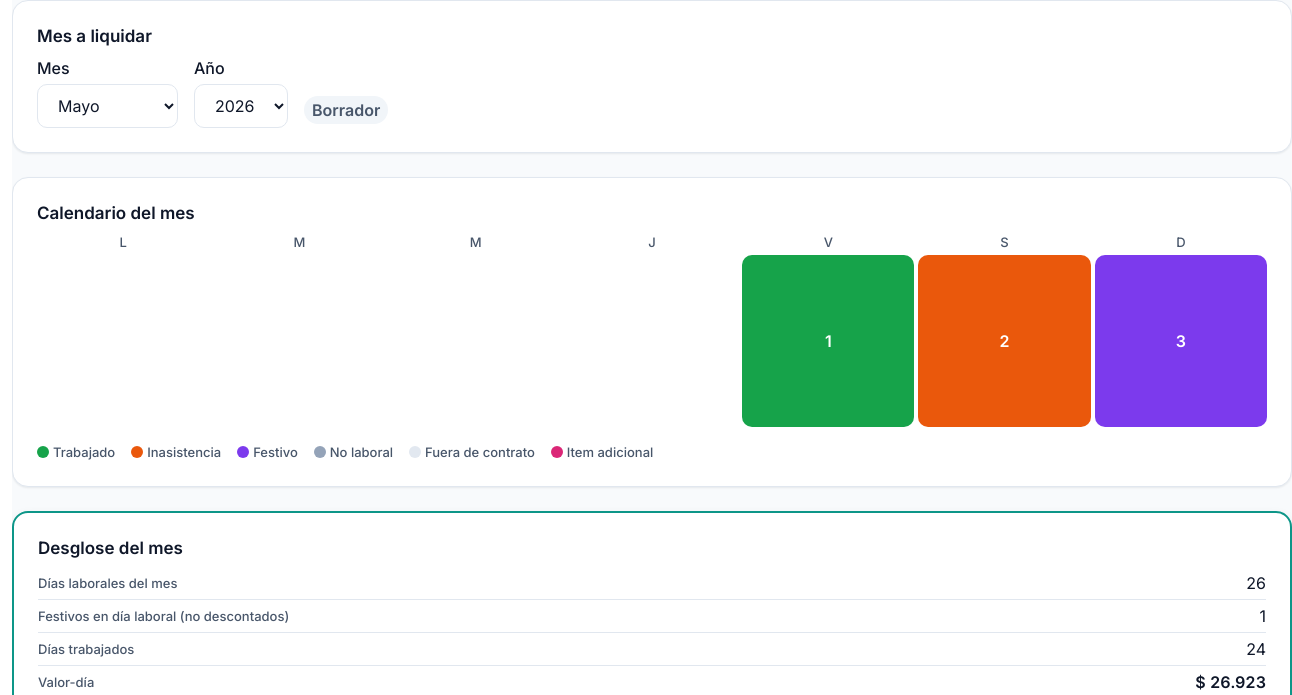
Test: LiquidarMesSection — novedades (Spec novedades) › AC-1: tras actualizar, el total mostrado se refresca con la respuesta
Click the cell named "1 de mayo". click: {"x": 828, "y": 341}
box: [742,255,914,427]
(page scrolled)
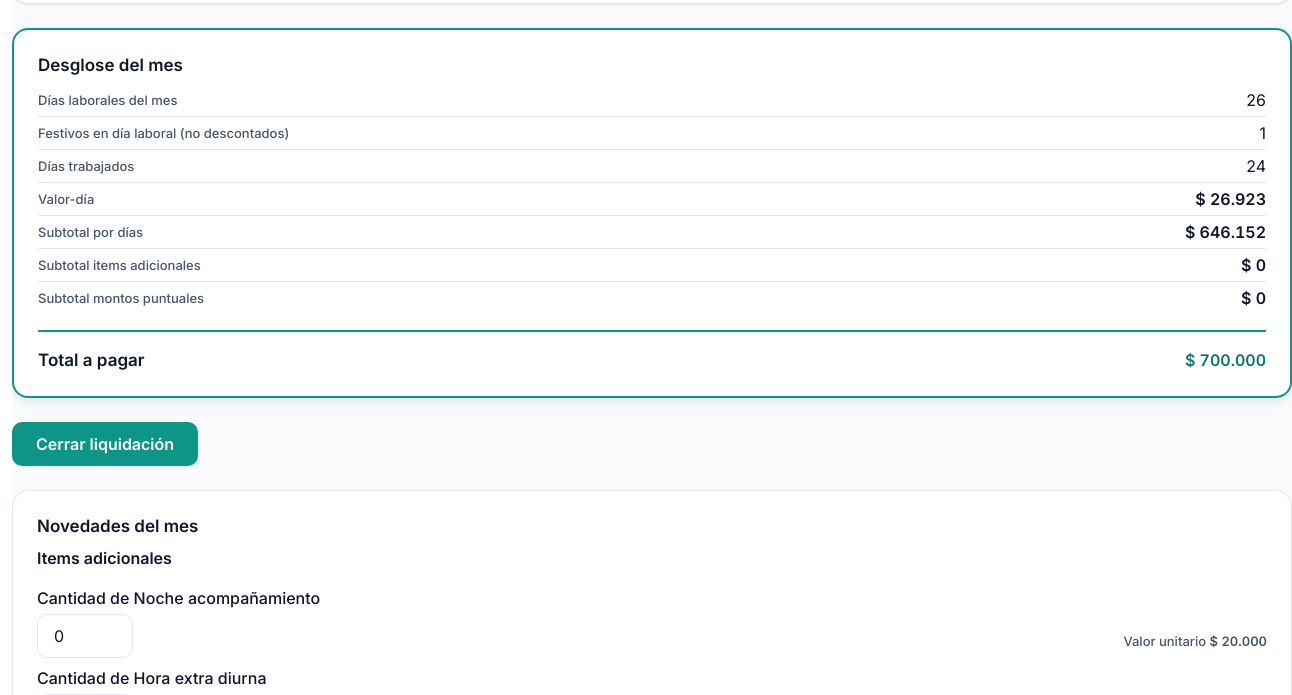
Expected: the text with test id "liquidacion-total" shows "700.000", [1185,350,1266,370]
